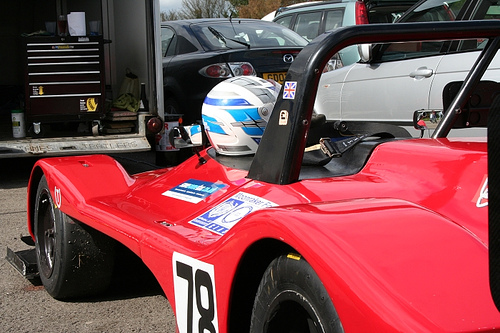helmet: (200, 86, 274, 145)
